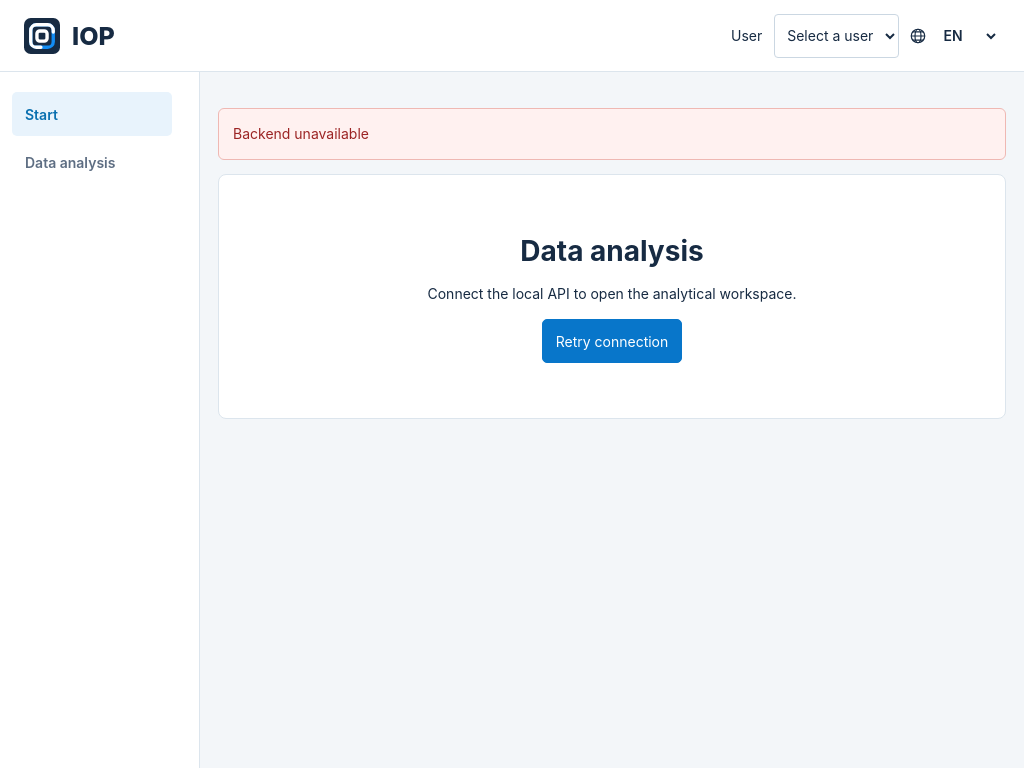
an API startup failure can be retried without reloading or submitting any data
Expected: the message reads "Backend unavailable", [233, 125, 369, 142]
Click the button "Retry connection" at coordinates (612, 341), box [542, 319, 682, 363]
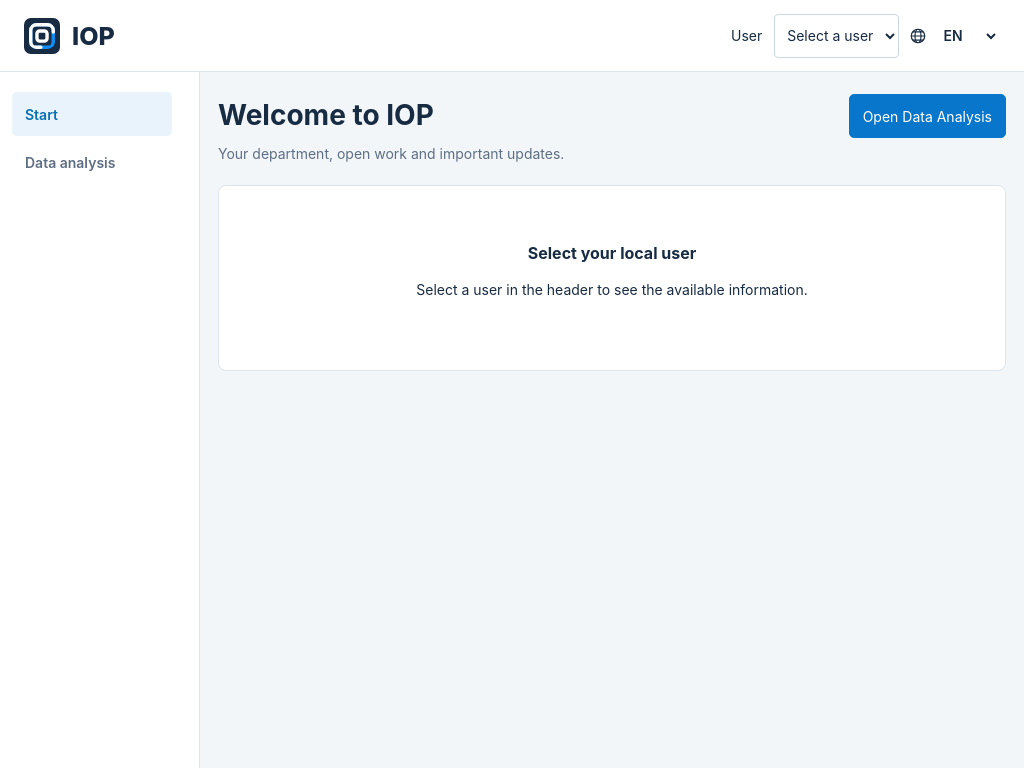
Expected: the message "Backend unavailable" is gone
